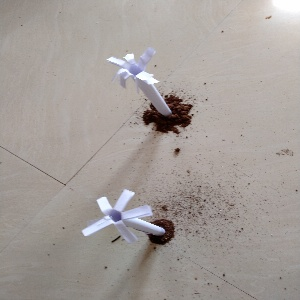weed: (101, 46, 192, 137), (80, 193, 180, 249)
